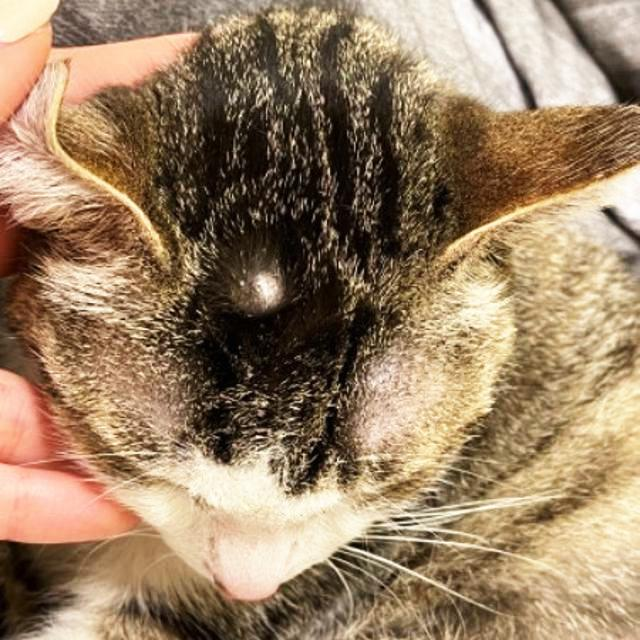lump_and_bump: (237, 270, 285, 313)
